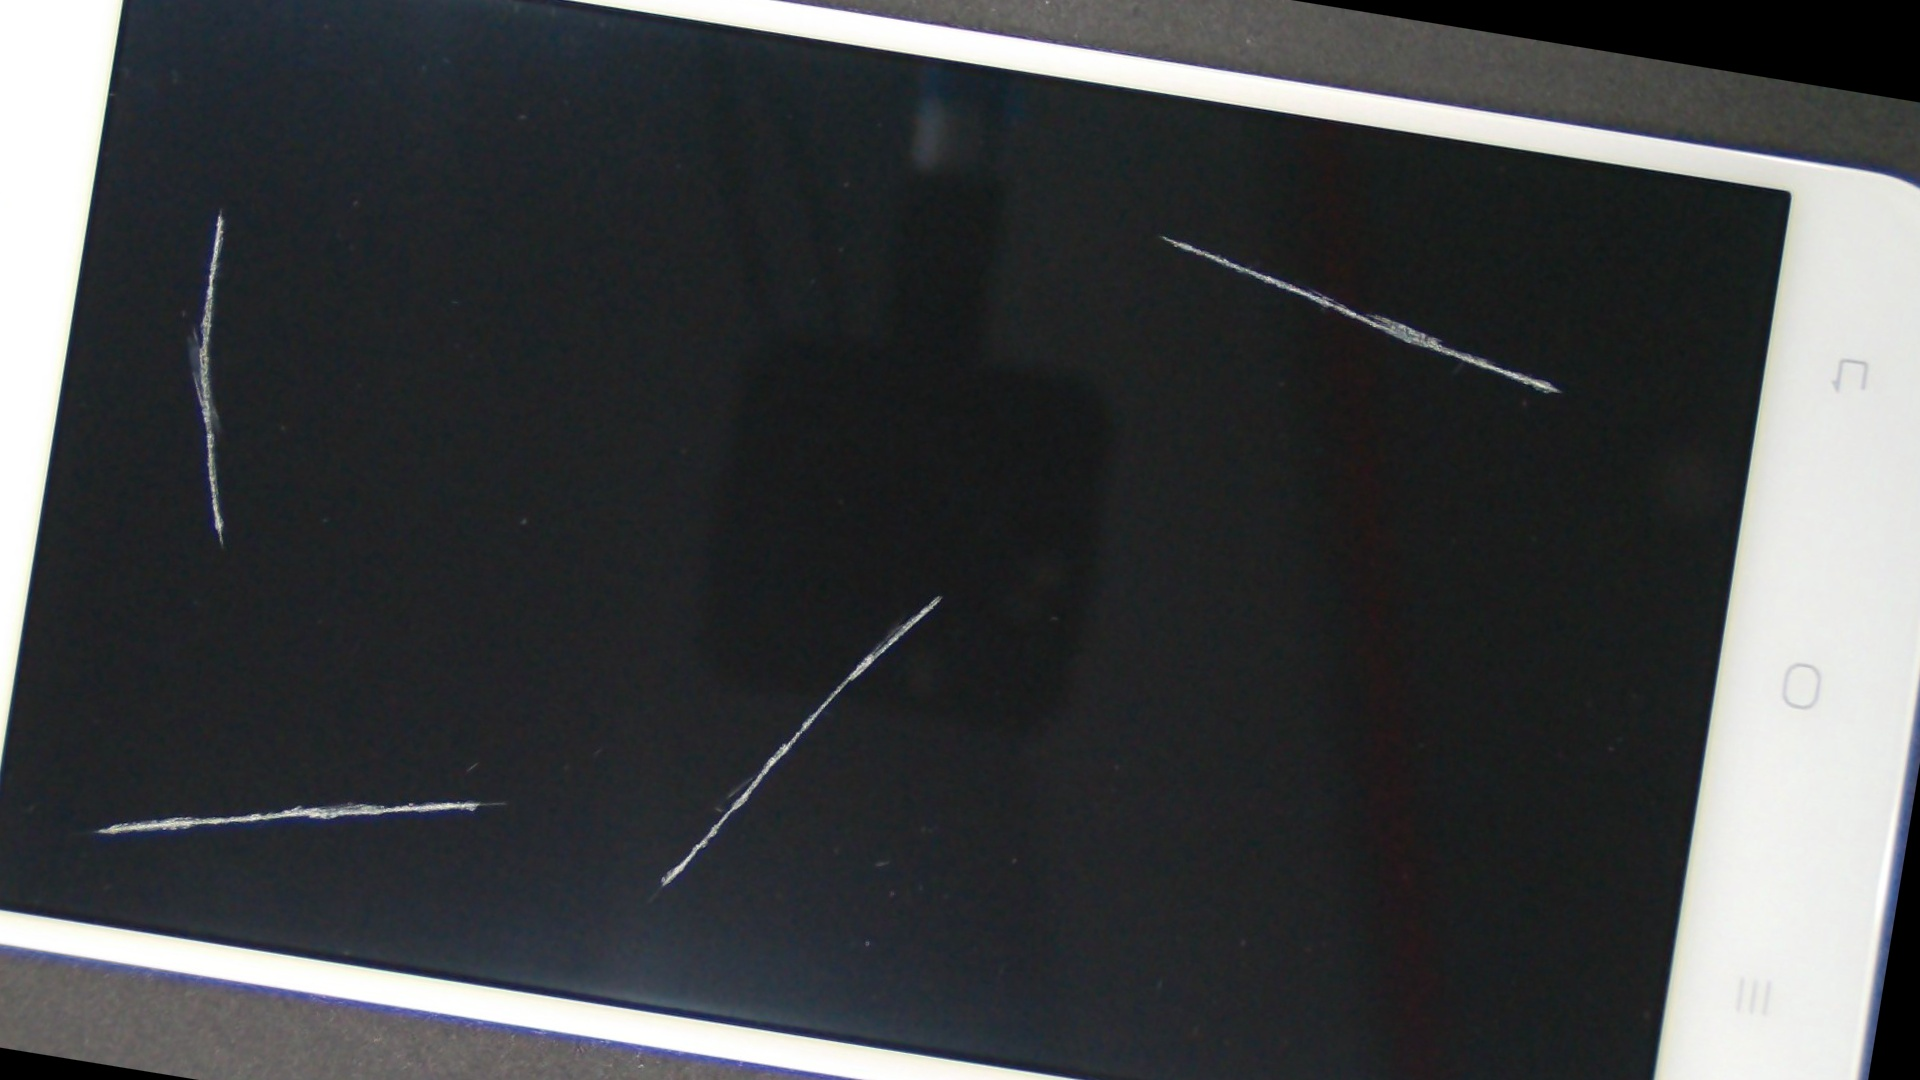oil: (335, 186, 1548, 1002), (94, 290, 934, 1080), (505, 5, 1812, 464), (16, 0, 422, 426)
